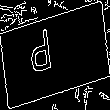P_S: (41, 26, 69, 84)
